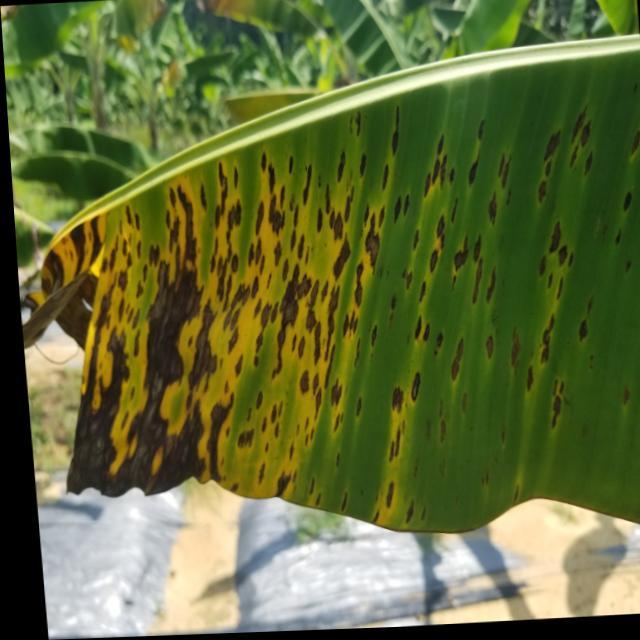Early_rust: (0, 58, 640, 532), (61, 0, 278, 81), (0, 0, 40, 32)
